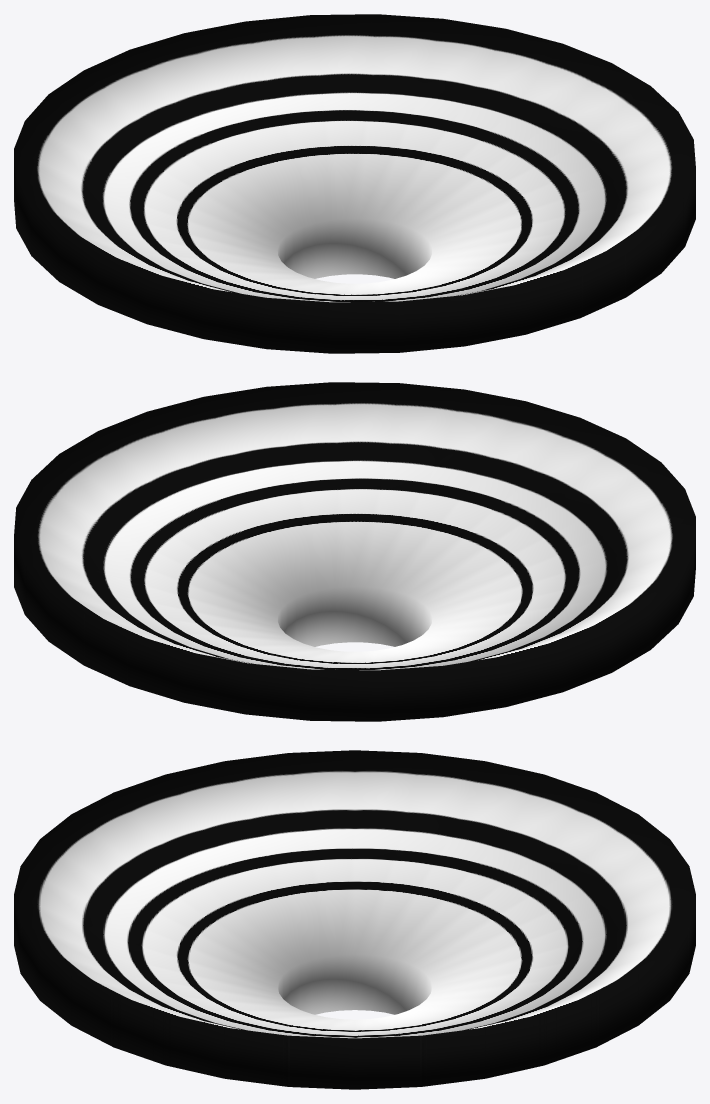
The model's file is plat_b.fbx.
3 views of the same model, one above another, from view 1: azimuth 30°, elevation 25°; view 2: azimuth 150°, elevation 25°; view 3: azimuth 270°, elevation 25° (orthographic).
Parts seen in each view (by area): view 1: Cylinder; view 2: Cylinder; view 3: Cylinder.
Part boxes in pixels (x1,y1,x2,y2): Cylinder: (14,14,695,353); Cylinder: (14,382,695,721); Cylinder: (14,750,695,1089).
Size of the model in its own units: 8 by 1.92 by 8.
